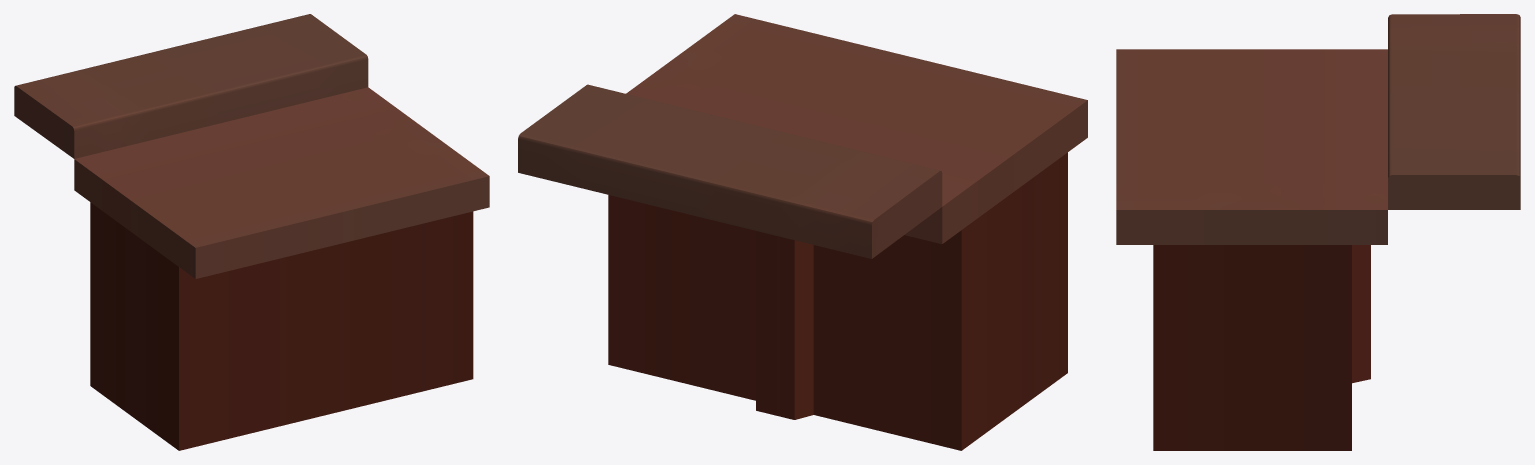
File: BarTable_Part1.fbx
The picture shows the model from 3 angles, left to right: view 1: azimuth 30°, elevation 25°; view 2: azimuth 150°, elevation 25°; view 3: azimuth 270°, elevation 25°; orthographic projection. The views are drawn at different scales.
Visible parts, largest first — view 1: bartTable_part1, clientTable_part1; view 2: bartTable_part1, clientTable_part1; view 3: bartTable_part1, clientTable_part1.
Boxes of the visible parts, <box> form: bartTable_part1: <box>74,87,489,450</box>; clientTable_part1: <box>14,14,368,158</box>; bartTable_part1: <box>608,14,1087,450</box>; clientTable_part1: <box>518,84,942,258</box>; bartTable_part1: <box>1116,49,1387,450</box>; clientTable_part1: <box>1388,14,1520,209</box>.
Bounding box in the file's own units: 8.26 × 6.59 × 8.77.
Materials: 1 (1 with a texture image).
